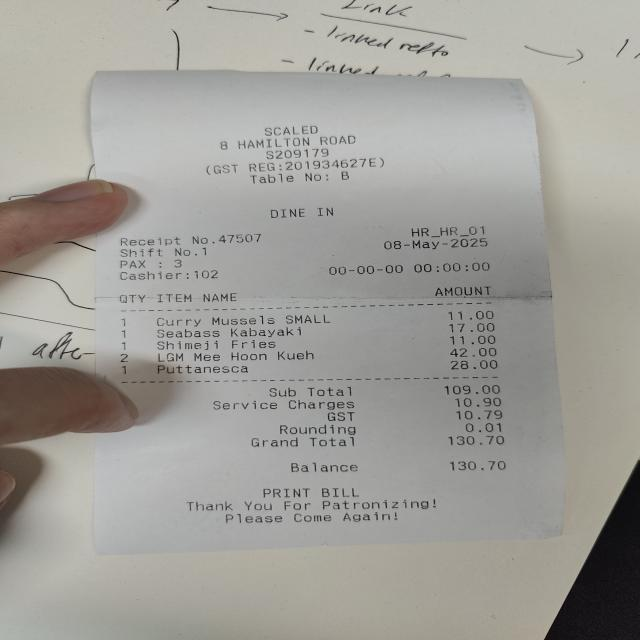bill_region: (98, 304, 543, 478)
